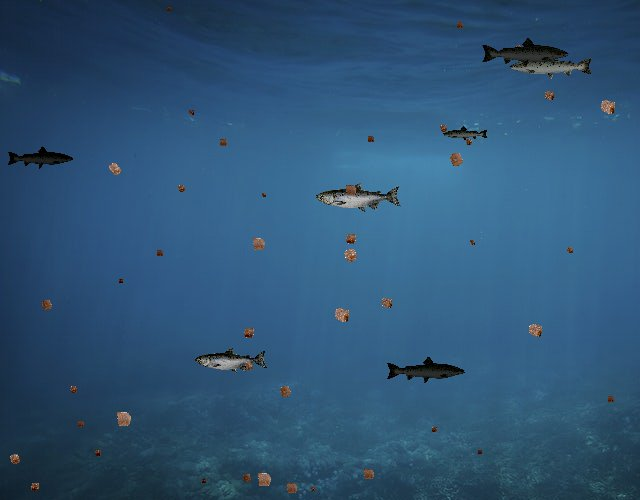Fish: (481, 37, 571, 69), (508, 50, 594, 81), (316, 182, 402, 213), (386, 355, 467, 385), (195, 348, 268, 374), (6, 146, 74, 170), (442, 126, 489, 143)
Pellet: (108, 403, 138, 434), (245, 231, 272, 258), (3, 448, 26, 470), (238, 322, 260, 344), (363, 132, 378, 146), (185, 106, 198, 119)
